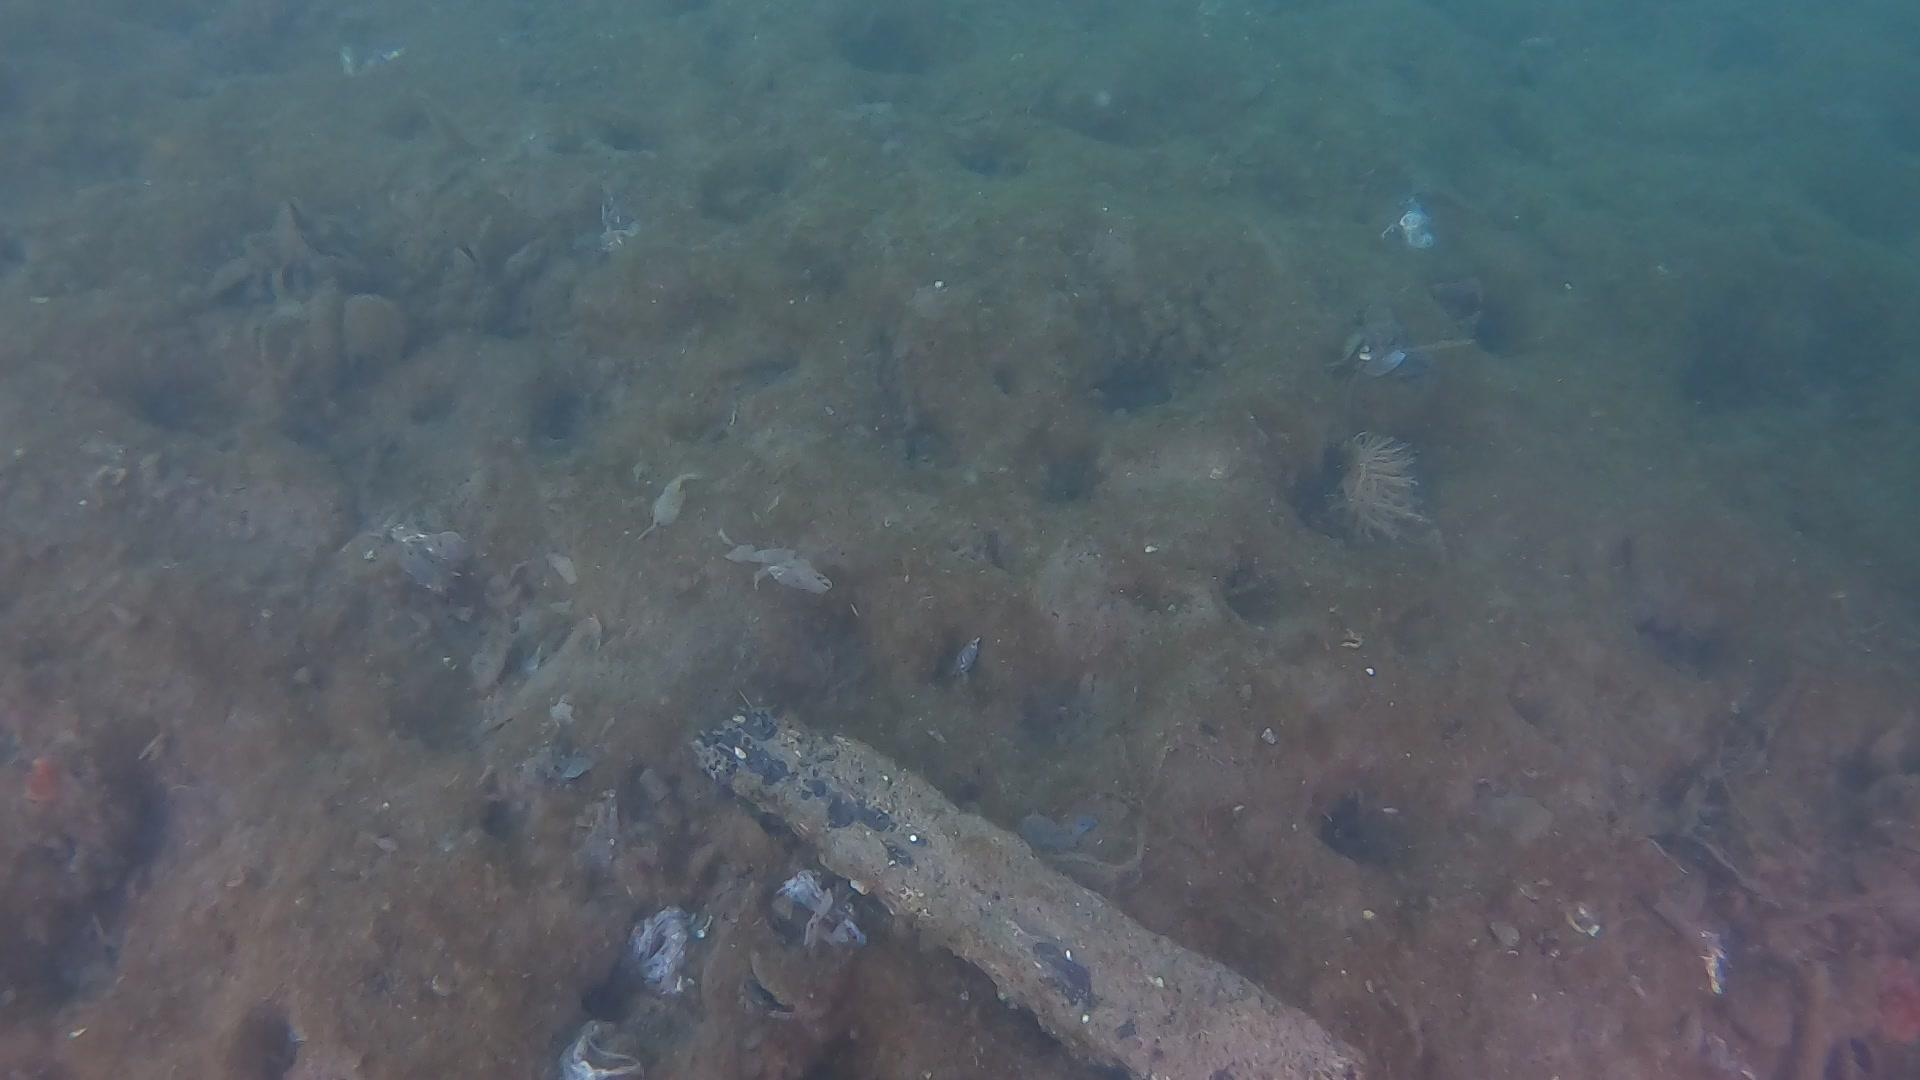wood: (690, 698, 1383, 1080)
